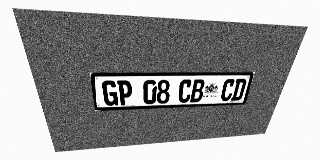0: (143, 80, 157, 104)
8: (156, 80, 171, 104)
B: (190, 79, 205, 102)
C: (178, 79, 193, 103), (220, 79, 236, 101)
D: (231, 79, 247, 101)
G: (101, 80, 118, 106)
P: (117, 80, 132, 105)
